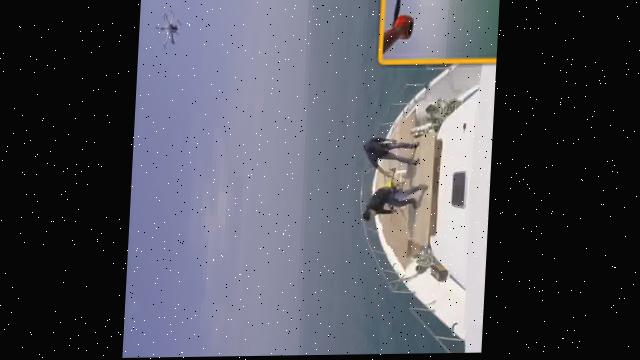drone: (151, 11, 182, 49)
